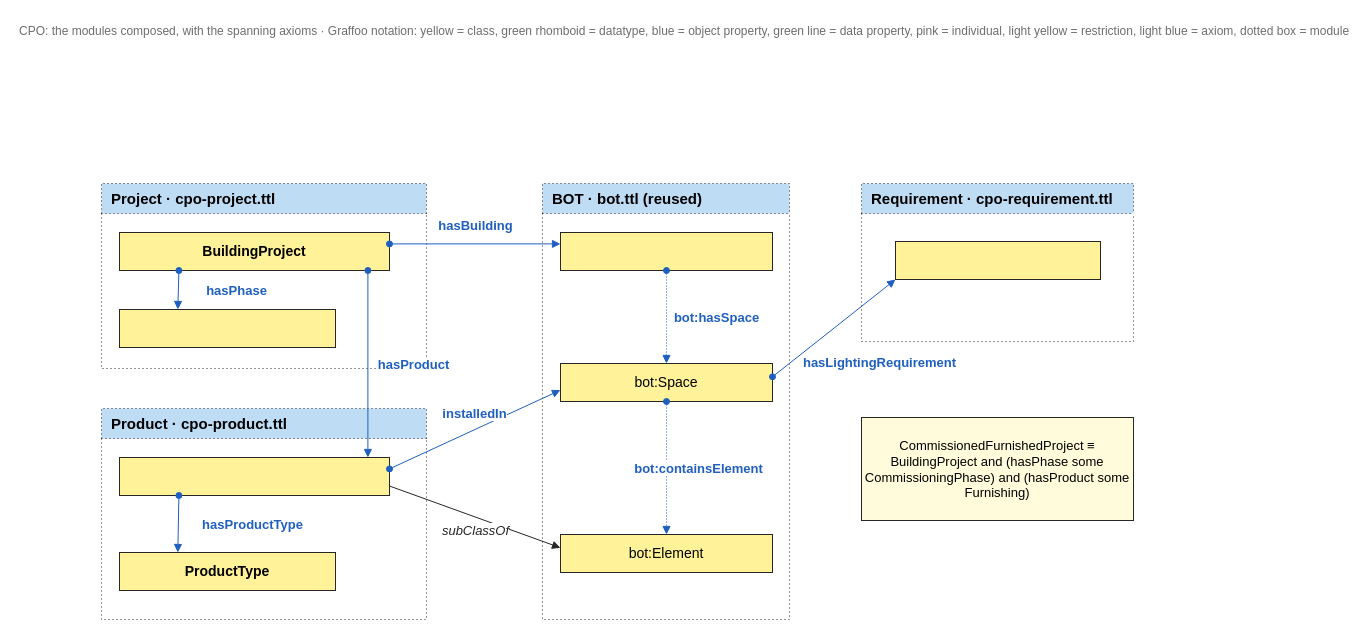
Image size: 1366x637. Some labels were removed from this diagram. Here are the shapes that lost their labels. From the top down, the centre of each, then its label:
At [666,251]: "bot:Building".
At [997,260]: "LightingRequirement".
At [227,328]: "ProjectPhase".
At [254,476]: "Product".
